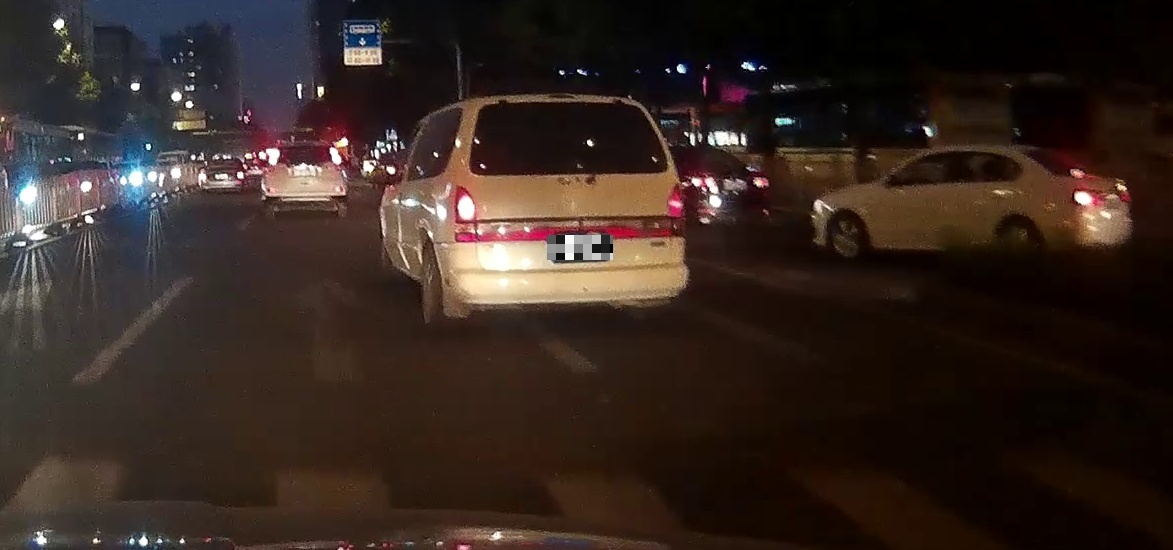L_light: (455, 185, 477, 243), (266, 148, 279, 172)
R_light: (668, 182, 685, 237), (329, 147, 343, 170)
T_light: (549, 101, 584, 111), (298, 147, 311, 151)
night-left: (453, 94, 688, 326)
night-no: (261, 142, 348, 219)
plate_1: (547, 235, 613, 260)
